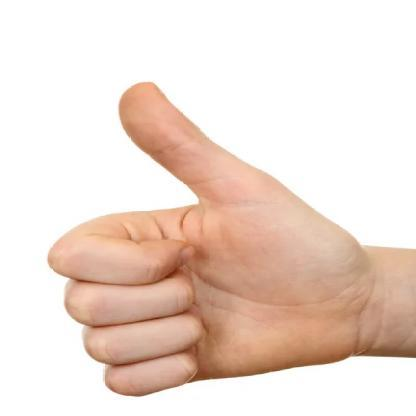thumb_up: (42, 75, 368, 398)
